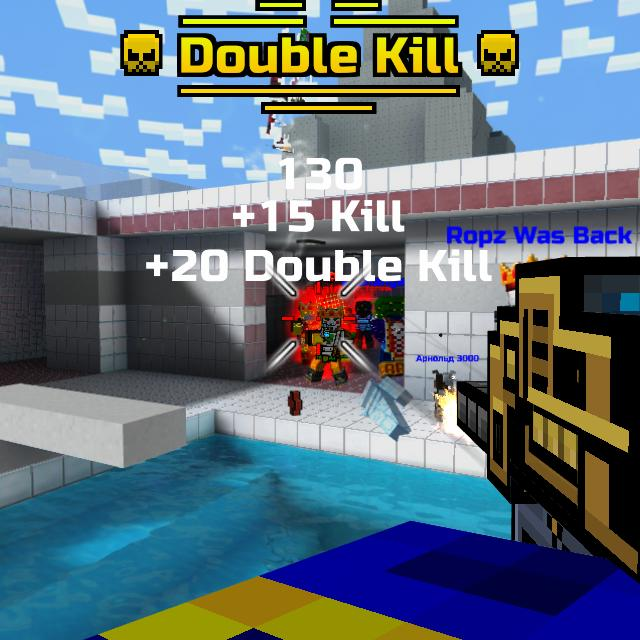Enemy: (298, 306, 357, 386), (349, 300, 375, 349)
